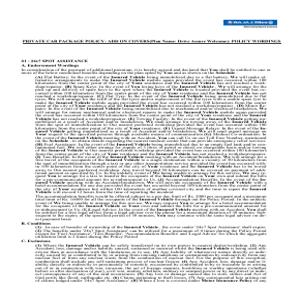image: (221, 16, 279, 29)
text: (20, 57, 272, 287), (20, 34, 284, 49)
